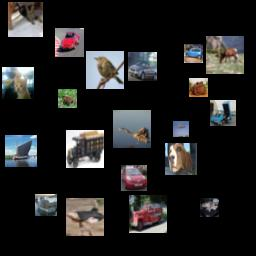airplane: (173, 121, 189, 137)
automobile: (128, 52, 157, 81), (55, 28, 84, 57), (121, 165, 147, 191), (184, 44, 203, 63)
bird: (113, 110, 151, 148), (66, 198, 104, 236), (86, 51, 124, 89)
cat: (8, 2, 43, 37), (2, 67, 34, 99), (200, 198, 219, 217)
deer: (206, 36, 244, 74)
dog: (165, 143, 197, 175)
frog: (189, 78, 208, 97), (58, 89, 77, 108)
ship: (5, 135, 37, 167), (35, 194, 57, 216)
truck: (129, 195, 167, 233), (66, 130, 104, 168), (210, 100, 236, 126)
